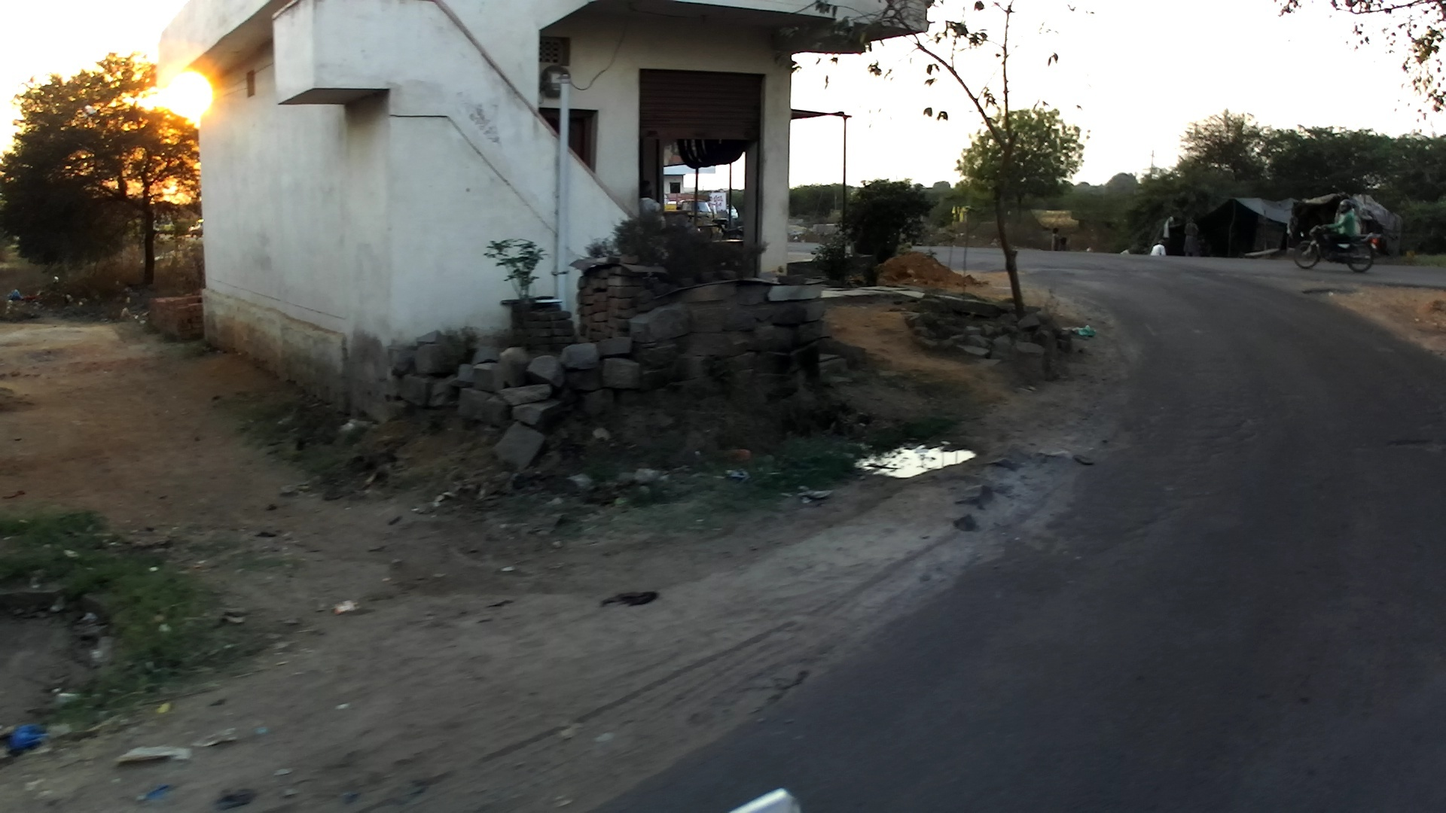autorickshaw: (664, 193, 719, 238)
bicycle: (685, 213, 744, 243)
car: (725, 204, 741, 222), (1058, 236, 1069, 251)
motorcycle: (1292, 227, 1381, 274)
person: (1183, 216, 1201, 256), (1150, 238, 1170, 257), (1051, 227, 1061, 253)
rider: (1320, 198, 1358, 261)
